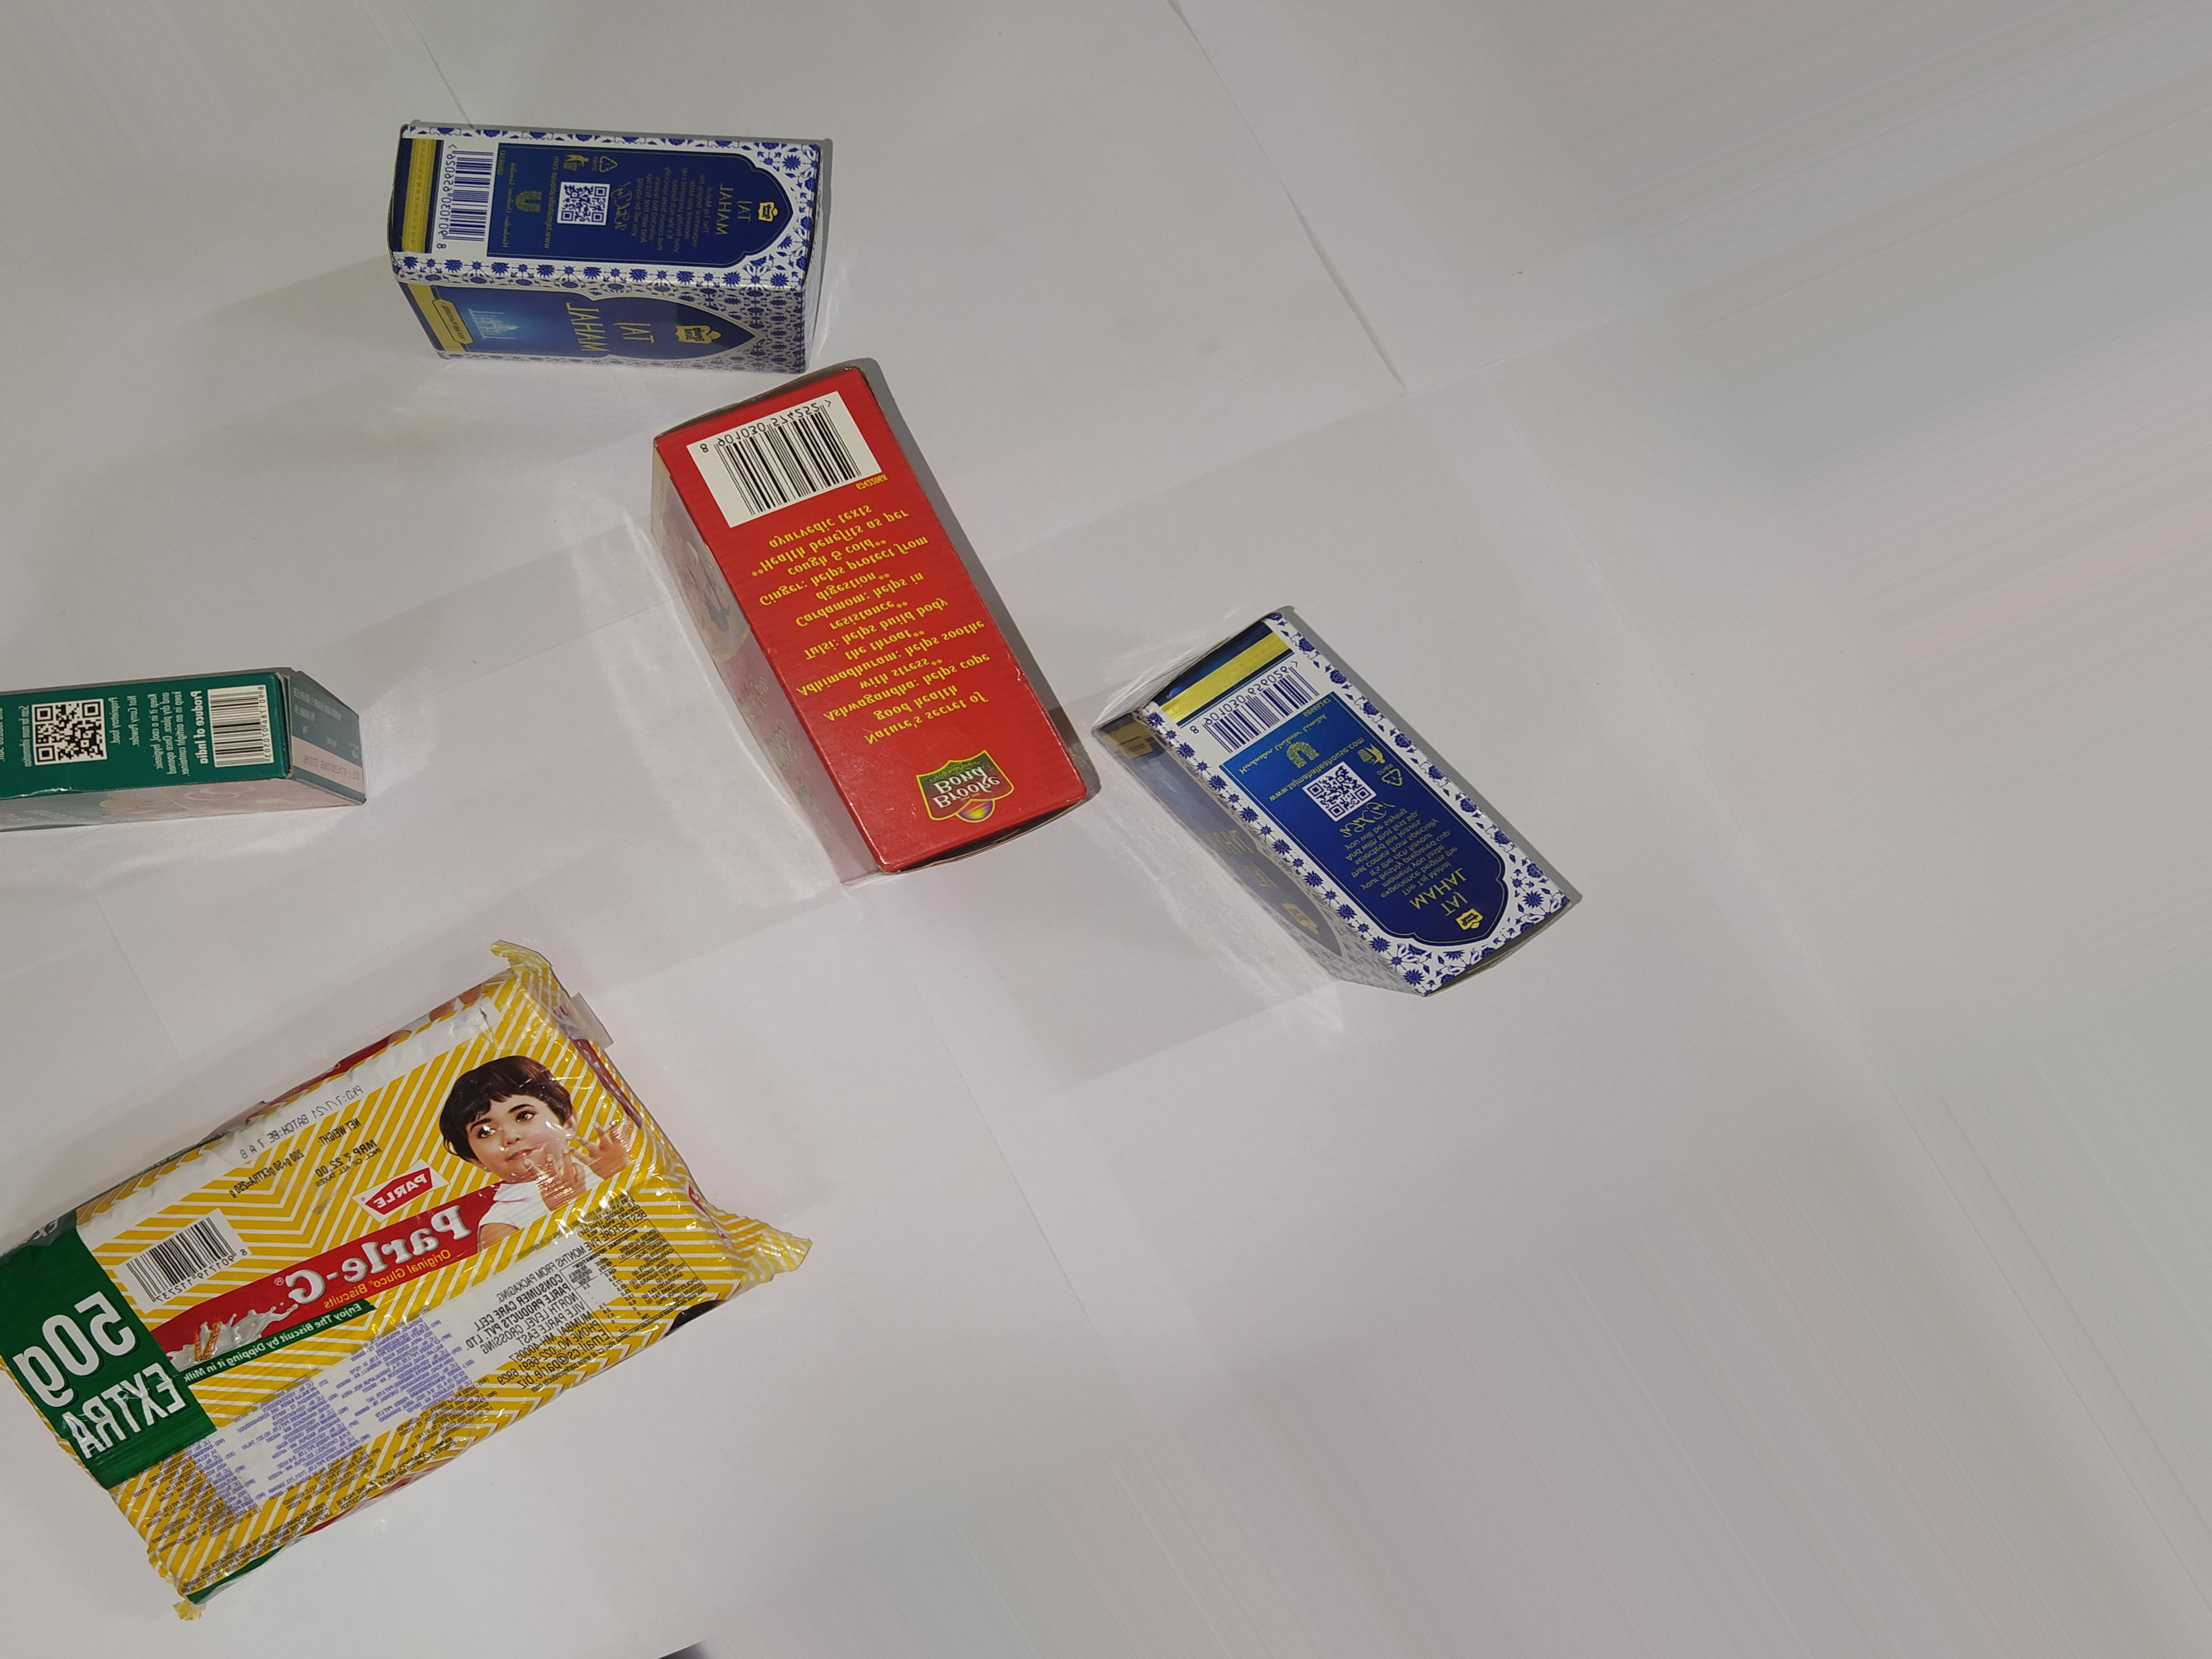Bar_code: (681, 389, 900, 525), (1181, 633, 1334, 767), (99, 1199, 260, 1309), (423, 134, 516, 272), (188, 673, 286, 781), (5, 692, 120, 777)
Item: (5, 917, 824, 1629), (1106, 479, 1637, 1089), (622, 352, 1118, 901), (359, 91, 840, 378), (0, 613, 395, 870)
QR_code: (1291, 760, 1381, 826), (547, 178, 625, 234)
